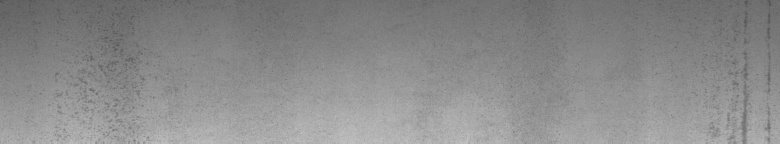ib: (56, 33, 141, 136)
